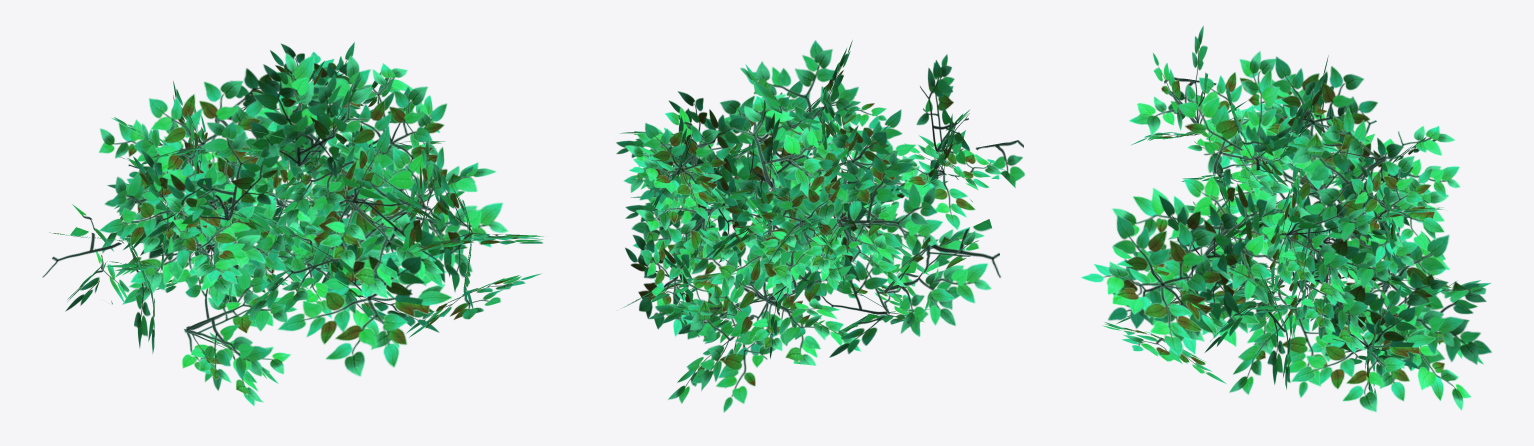
File: Leaf_P4.glb
3 views of the same model, side by side, from view 1: azimuth 30°, elevation 25°; view 2: azimuth 150°, elevation 25°; view 3: azimuth 270°, elevation 25° (orthographic). The views are drawn at different scales.
Parts seen in each view (by area): view 1: Leaf_P4; view 2: Leaf_P4; view 3: Leaf_P4.
Part boxes in pixels (box(x1,y1,x2,y2)): Leaf_P4: box(42, 42, 543, 406); Leaf_P4: box(616, 40, 1024, 412); Leaf_P4: box(1081, 25, 1491, 412).
Size of the model in its own units: 3.62 by 2.72 by 3.23.
1 material, 1 textured.
